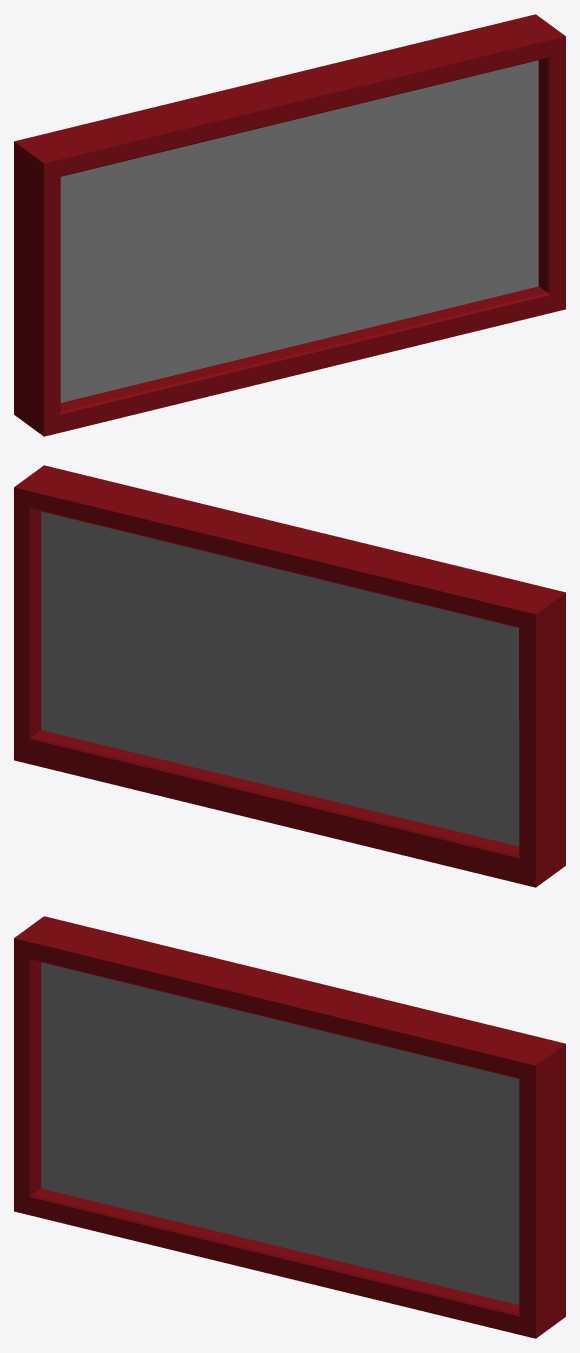
The model's file is SM_MH_01_Wood_02_Wall_Half_H_02.fbx.
3 views of the same model, one above another, from view 1: azimuth 30°, elevation 25°; view 2: azimuth 150°, elevation 25°; view 3: azimuth 330°, elevation 25° (orthographic).
Parts seen in each view (by area): view 1: SM_MH_01_Wood_02_Wall_Half_H_02_LOD0; view 2: SM_MH_01_Wood_02_Wall_Half_H_02_LOD0; view 3: SM_MH_01_Wood_02_Wall_Half_H_02_LOD0.
Part boxes in pixels (x1,y1,x2,y2): SM_MH_01_Wood_02_Wall_Half_H_02_LOD0: (14, 14, 565, 436); SM_MH_01_Wood_02_Wall_Half_H_02_LOD0: (14, 465, 565, 887); SM_MH_01_Wood_02_Wall_Half_H_02_LOD0: (14, 916, 565, 1338).
Size of what is drawn, in the model's own units: 300 by 150 by 30.
